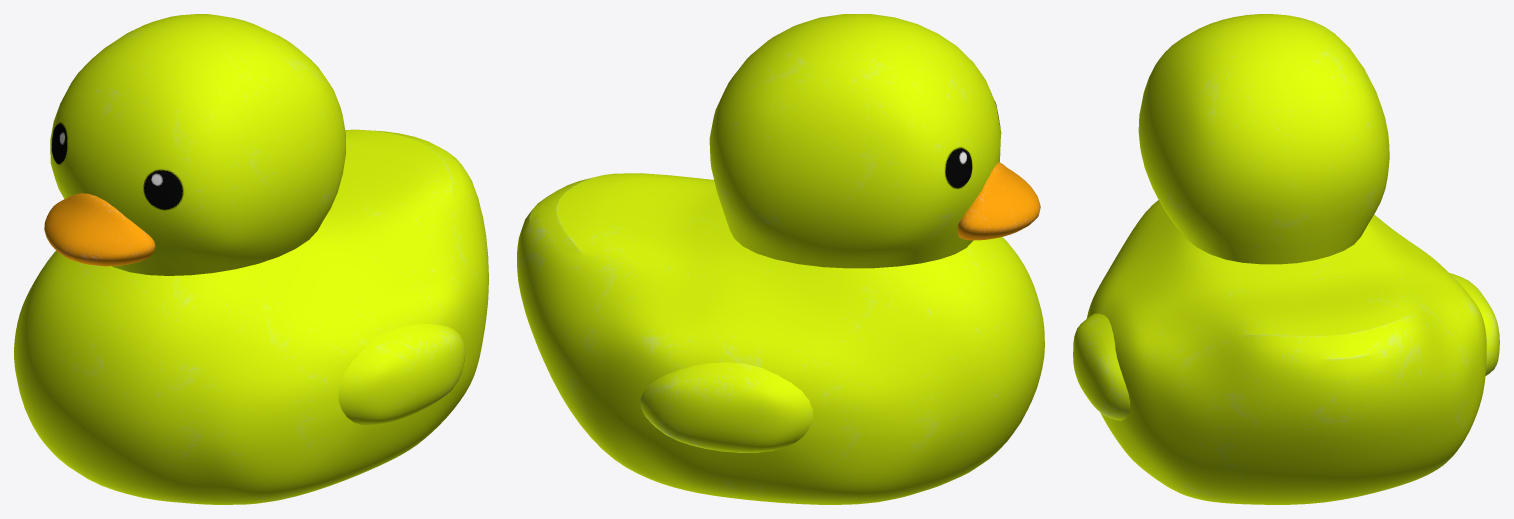
File: Duck.fbx
3 renders of one model, left to right at view 1: azimuth 30°, elevation 25°; view 2: azimuth 150°, elevation 25°; view 3: azimuth 270°, elevation 25°, orthographic. The views are drawn at different scales.
Visible parts, largest first — view 1: Body; view 2: Body; view 3: Body.
Part boxes in pixels (x1,y1,x2,y2): Body: (14, 14, 488, 504); Body: (517, 14, 1044, 504); Body: (1073, 14, 1499, 504).
Size of the model in its own units: 141 by 129 by 123.
